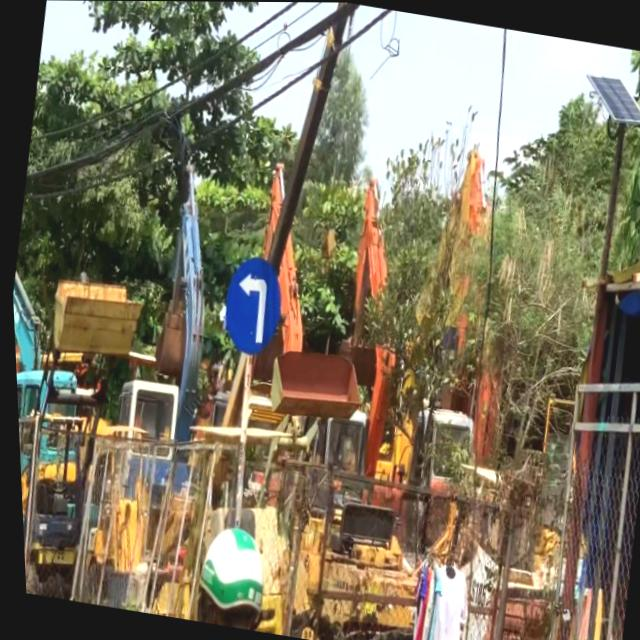Cac xe chi duoc re trai: (213, 252, 286, 358)
